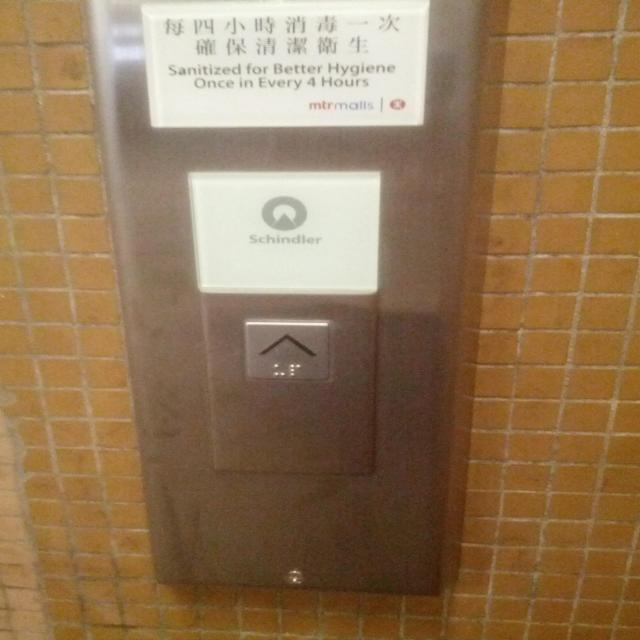up: (243, 320, 330, 381)
